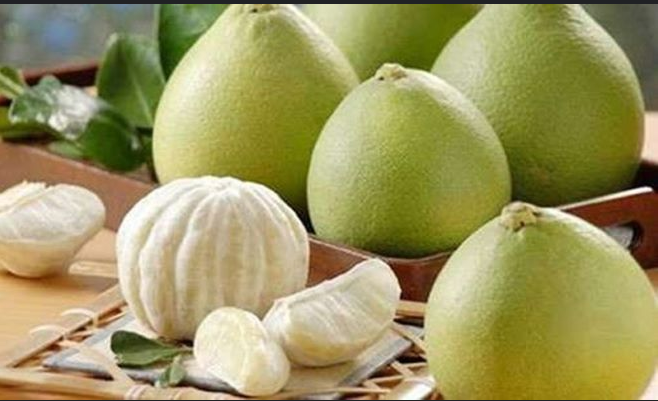buoi: (417, 195, 656, 398), (428, 4, 647, 209), (152, 5, 362, 218), (308, 65, 512, 261)
